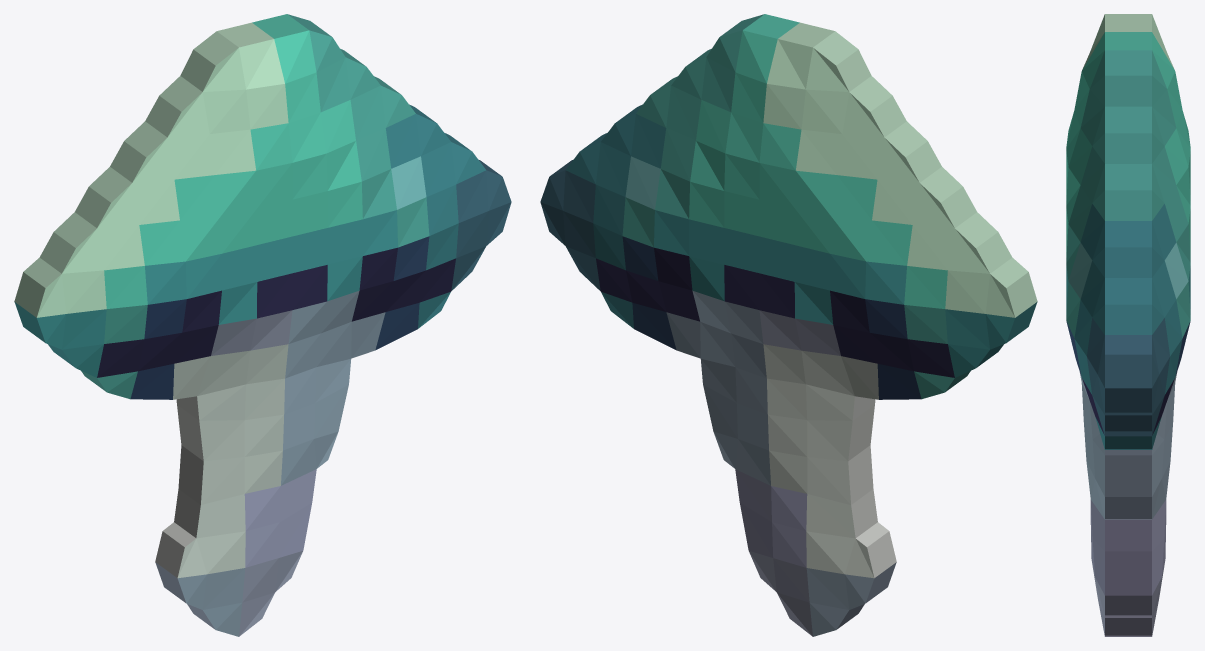
File: ghost_mushroom.glb
3 views of the same model, side by side, from view 1: azimuth 30°, elevation 25°; view 2: azimuth 150°, elevation 25°; view 3: azimuth 270°, elevation 25° (orthographic). The views are drawn at different scales.
Visible parts, largest first — view 1: ghost_mushroom; view 2: ghost_mushroom; view 3: ghost_mushroom.
Boxes of the visible parts, x1,y1,x2,y2 form: ghost_mushroom: (14,14,511,636); ghost_mushroom: (540,14,1037,636); ghost_mushroom: (1066,14,1190,636).
Size of the model in its own units: 0.8431 by 1 by 0.1813.
1 material, 1 textured.
